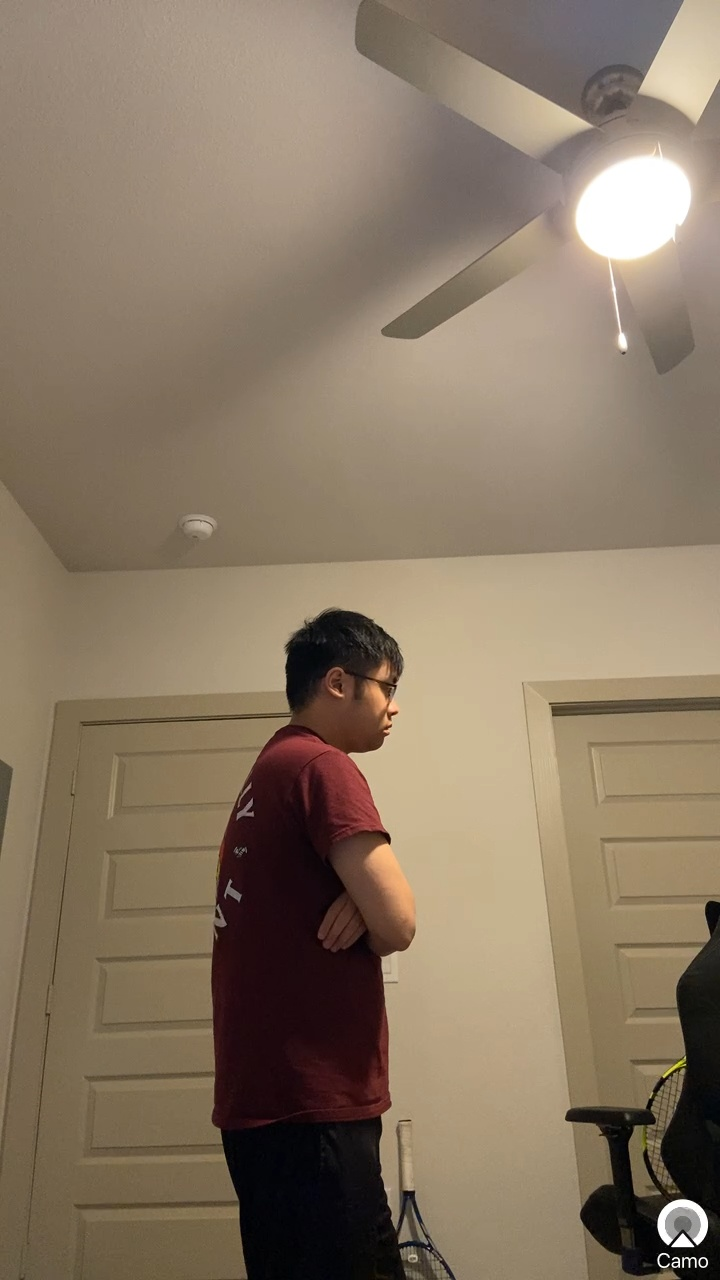Person: (201, 609, 501, 1280)
